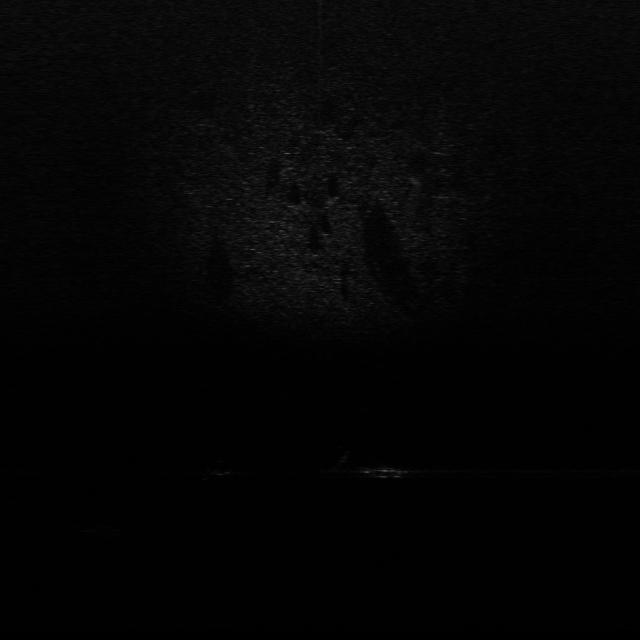ball: (200, 452, 238, 480)
circle cage: (72, 512, 130, 545)
human body: (326, 446, 414, 488)
